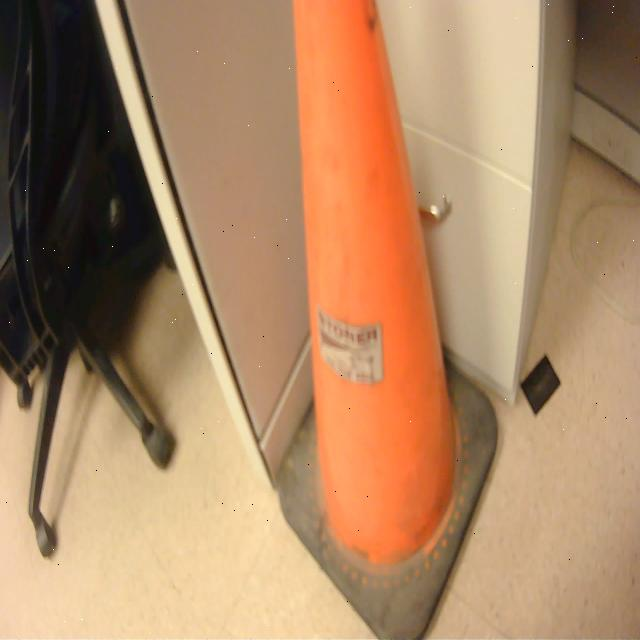traffic cone: (269, 1, 507, 640)
